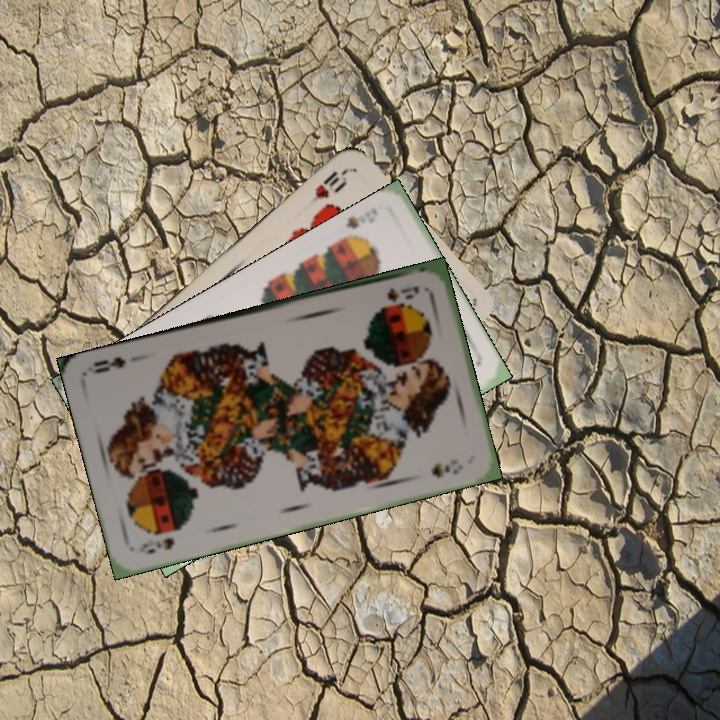H10: (302, 165, 350, 210)
S9: (335, 211, 369, 244)
SO: (136, 533, 177, 557), (383, 282, 422, 305)
